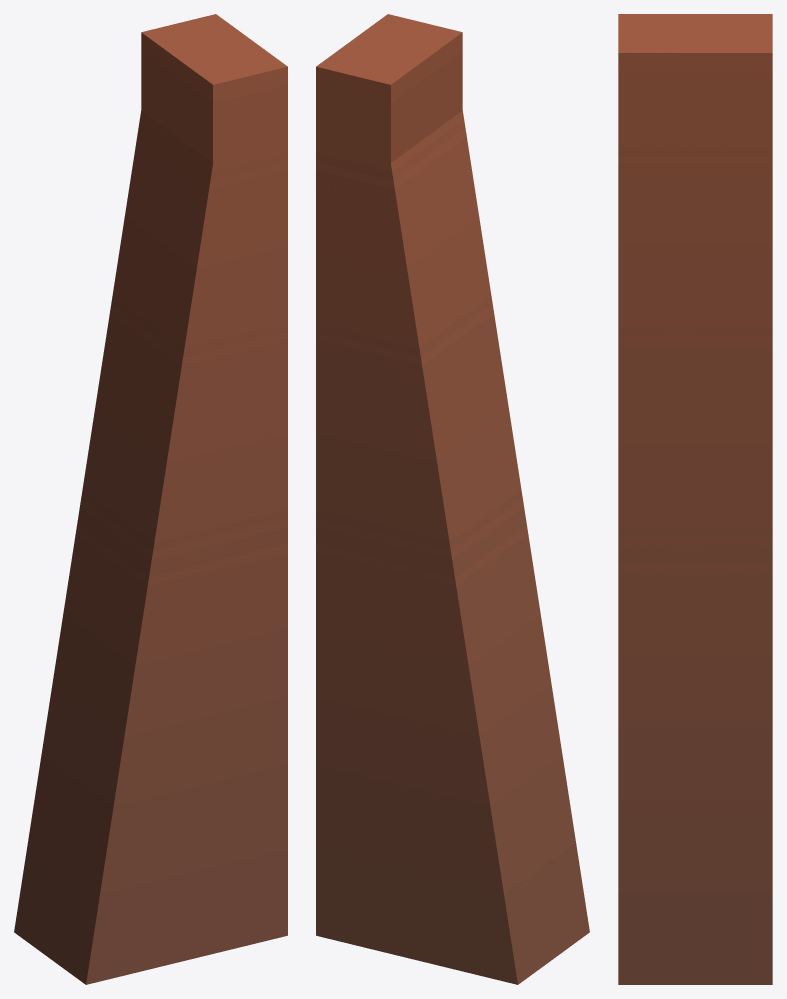
The model's file is wall-stud.glb.
3 views of the same model, side by side, from view 1: azimuth 30°, elevation 25°; view 2: azimuth 150°, elevation 25°; view 3: azimuth 270°, elevation 25° (orthographic). The views are drawn at different scales.
Visible parts, largest first — view 1: wall-stud; view 2: wall-stud; view 3: wall-stud.
Part boxes in pixels (x1,y1,x2,y2): wall-stud: (14,14,287,984); wall-stud: (316,14,589,984); wall-stud: (618,14,772,984).
Size of the model in its own units: 0.81 by 3.33 by 0.4998.
Materials: 1 (1 with a texture image).
